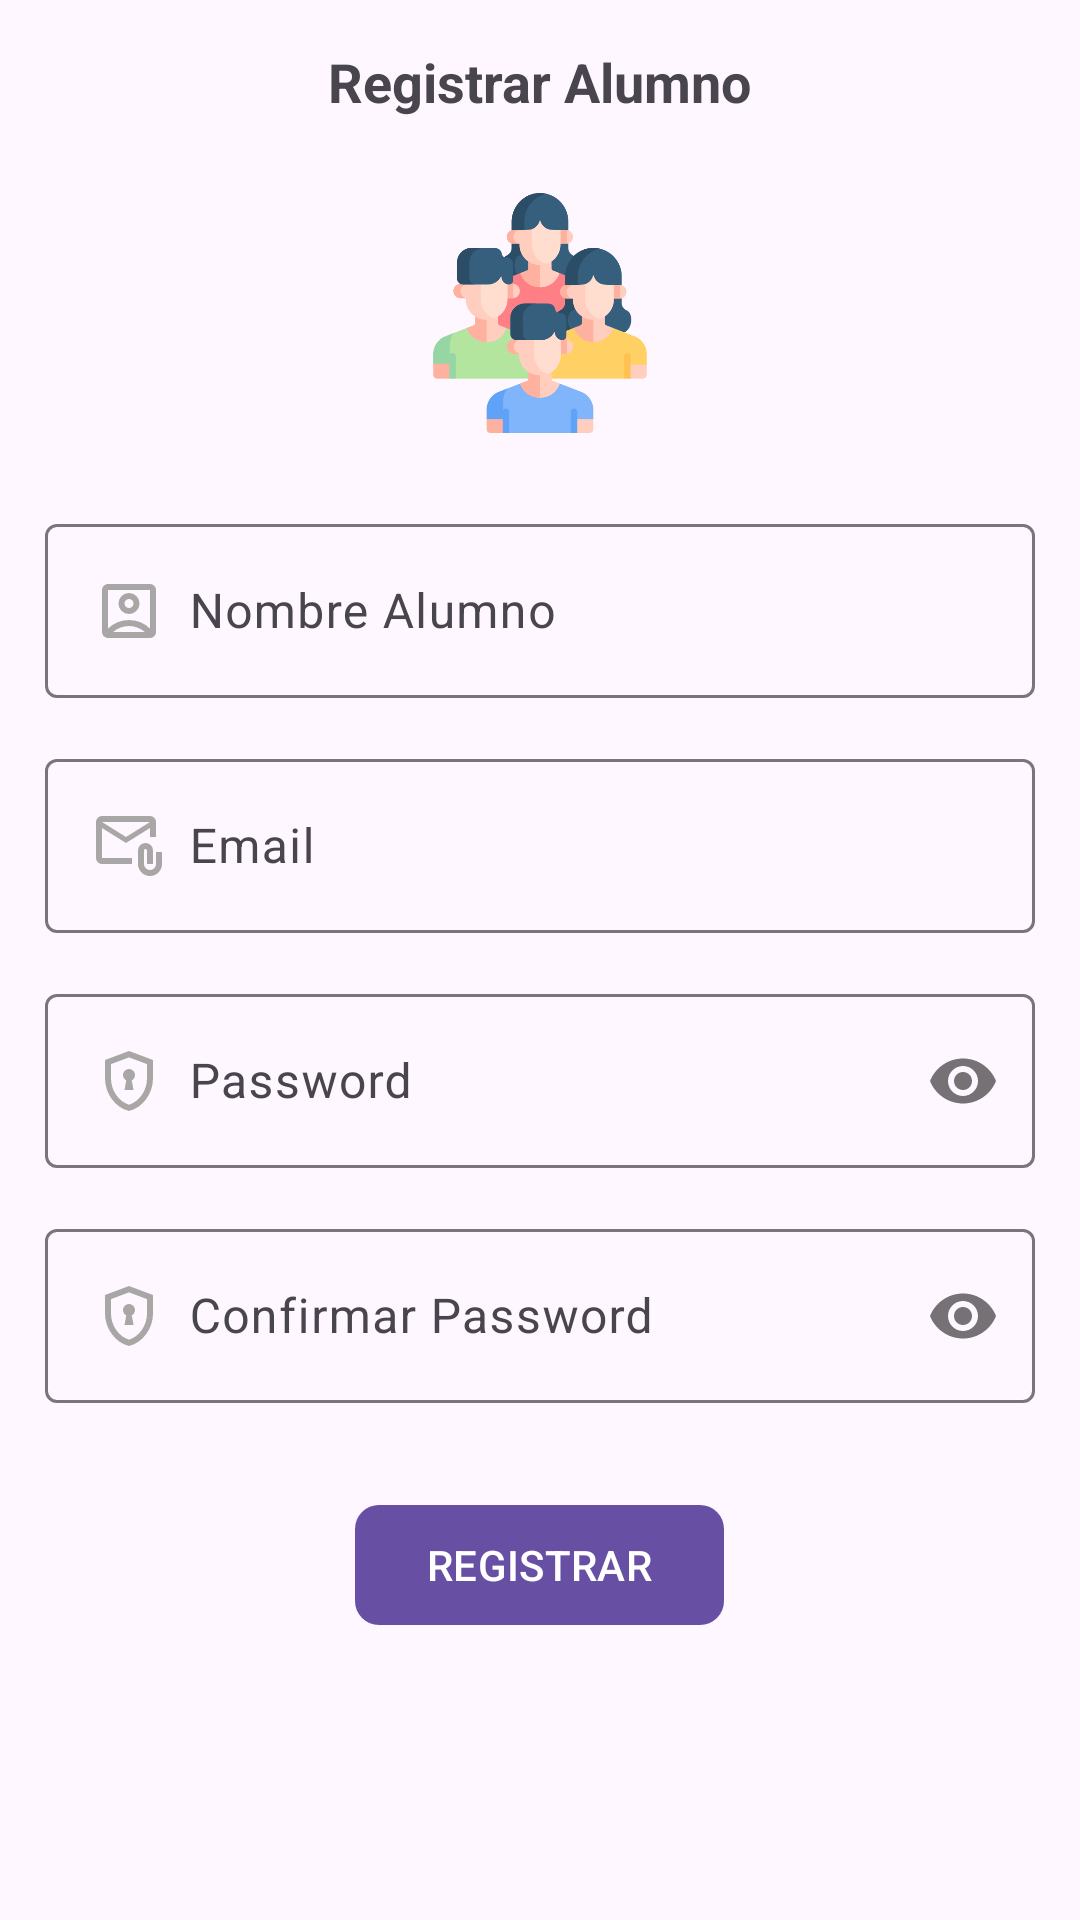

Icon bounding boxes for this 1080px x 1920px phone screenshot, format (x1, y1, x2, y2):
registro cliente: (433, 193, 647, 433)
